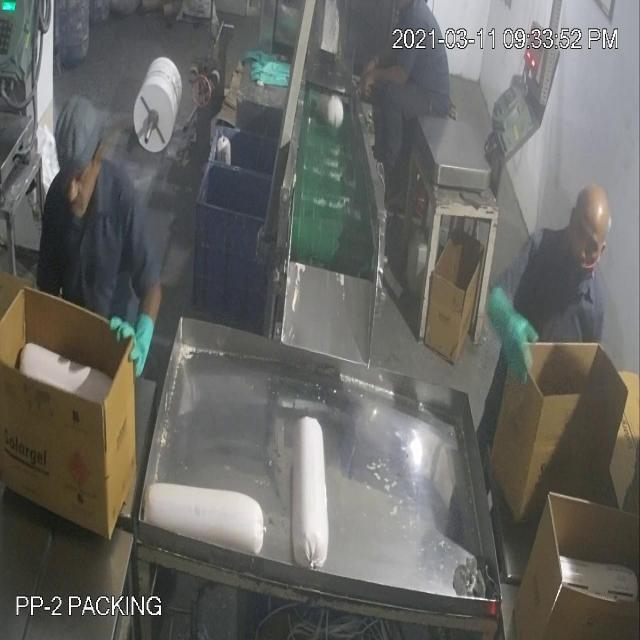No_Gloves: (56, 58, 509, 340)
